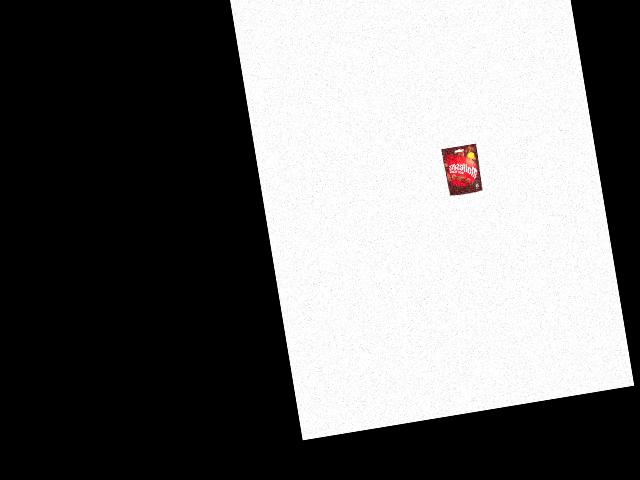chocolate: (440, 142, 484, 197)
